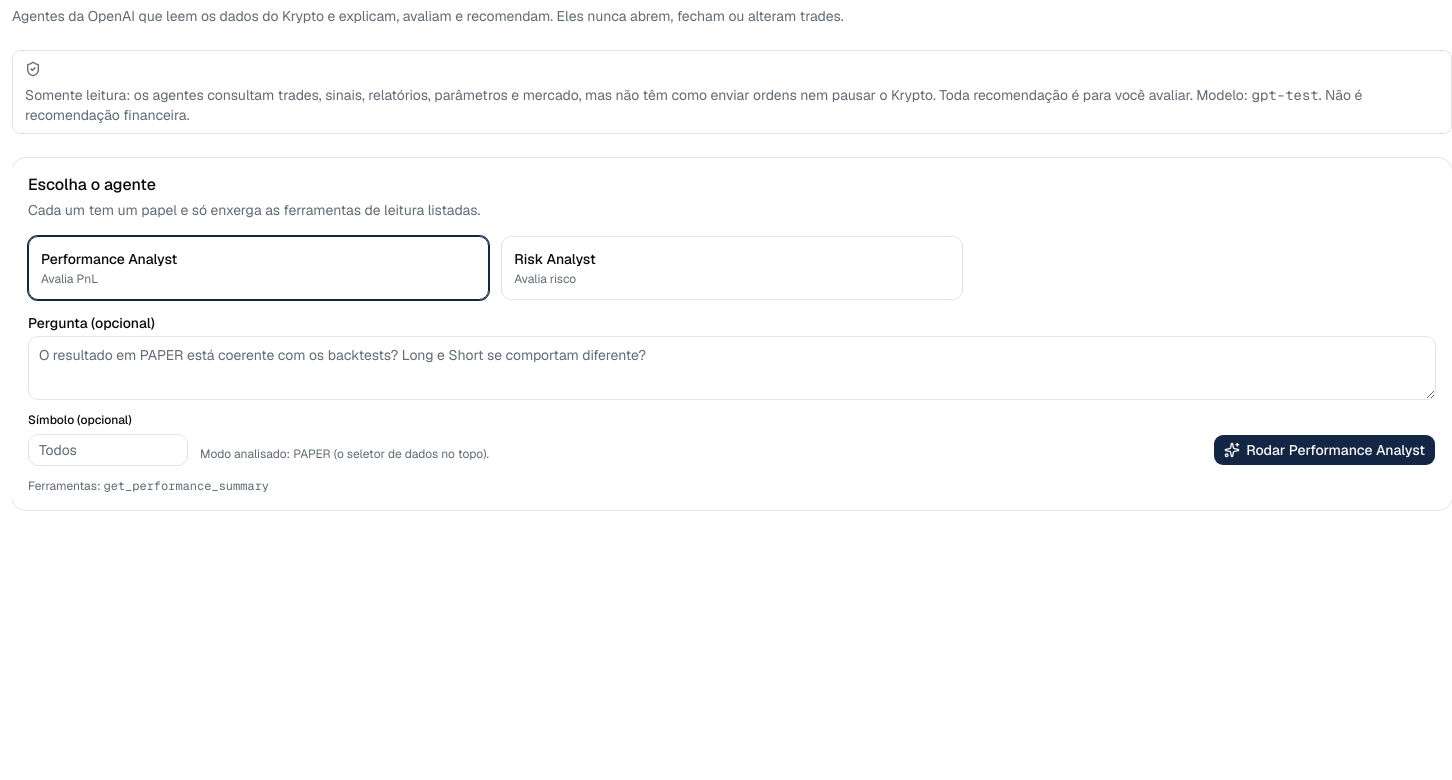
AiView › runs the selected agent with the question and data mode, then shows the advisory answer
Click the radio button labelled "Risk Analyst Avalia risco" at (555, 259), box [501,236,963,300]
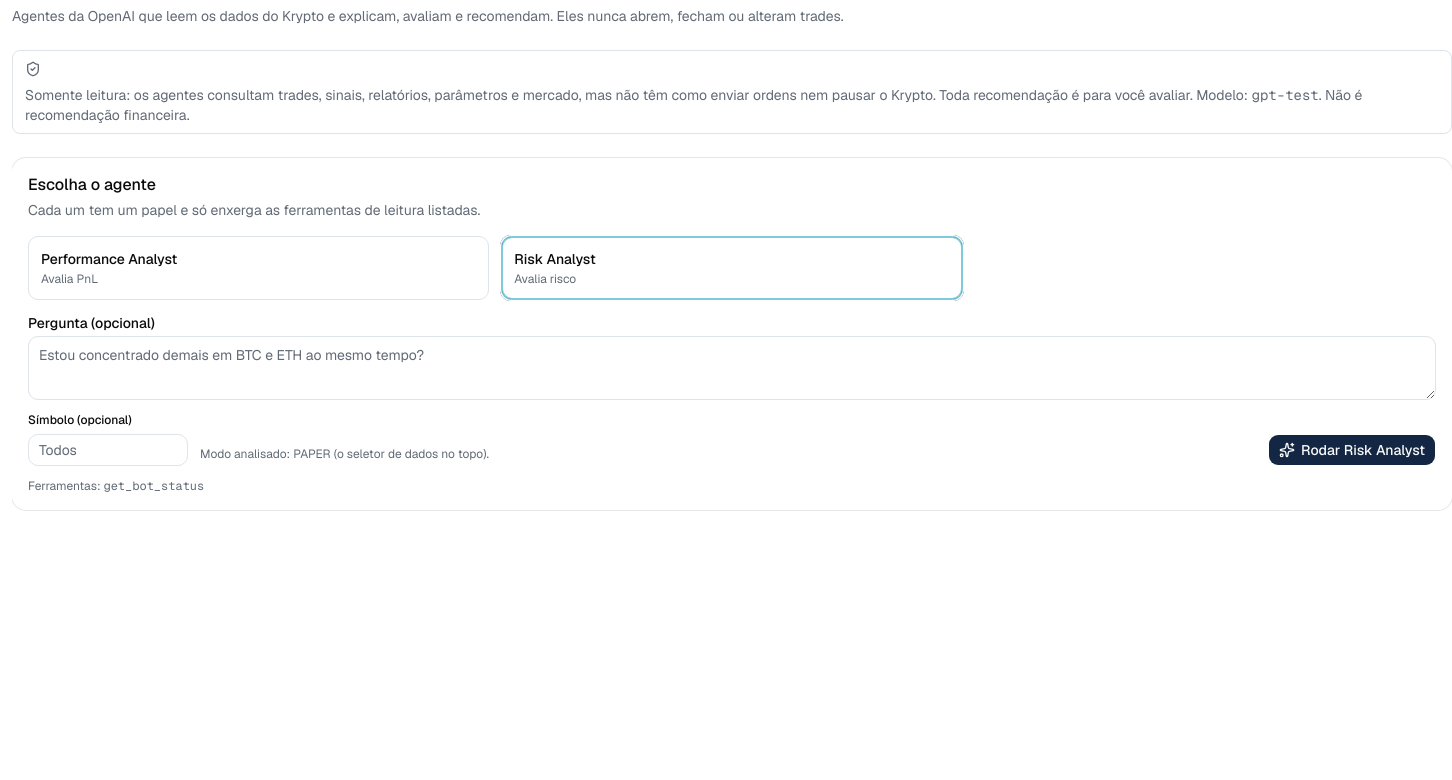
Type "Estou concentrado?" into the text box labelled "Pergunta (opcional)" at (732, 368), box [28,336,1436,400]
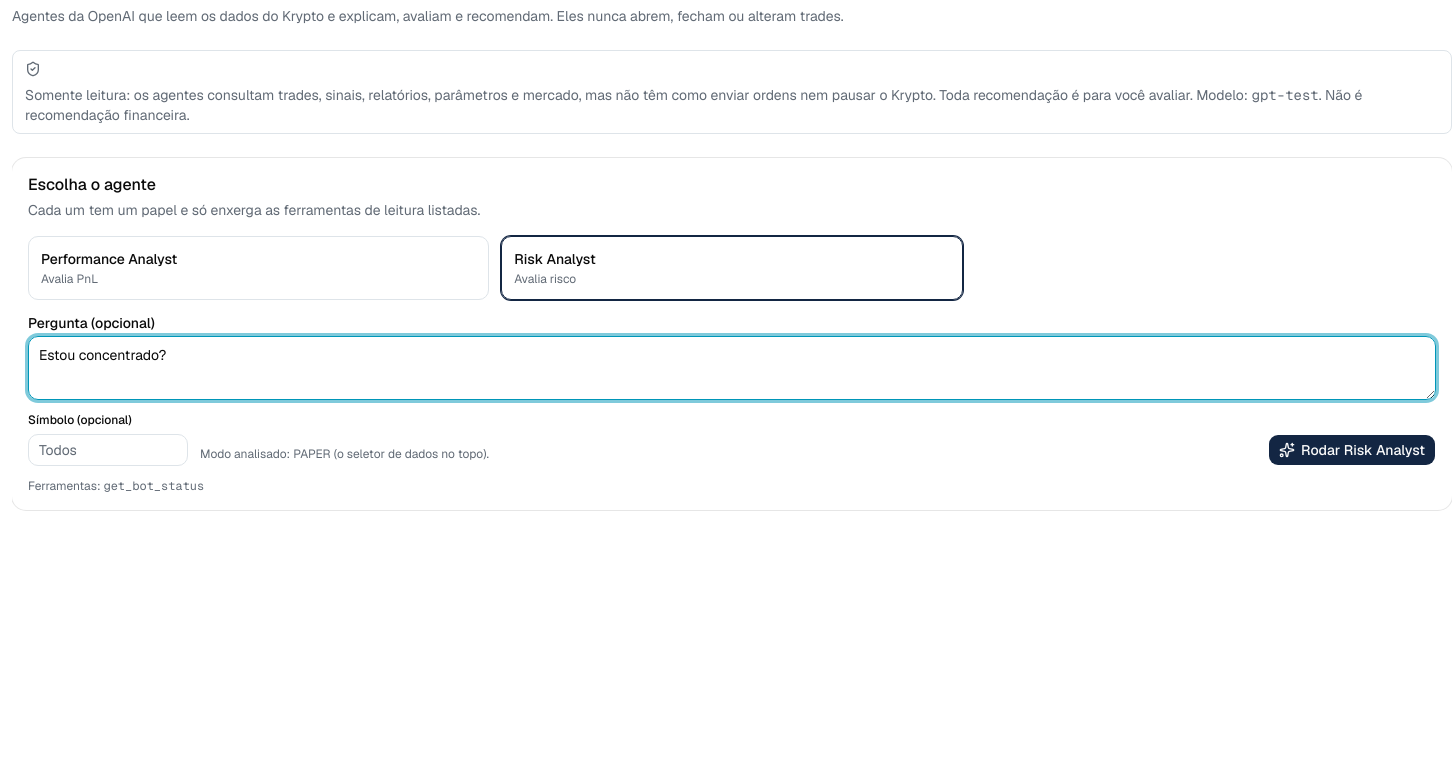
Click the button "Rodar Risk Analyst" at (1352, 450), box [1268,434,1436,466]
(page scrolled)
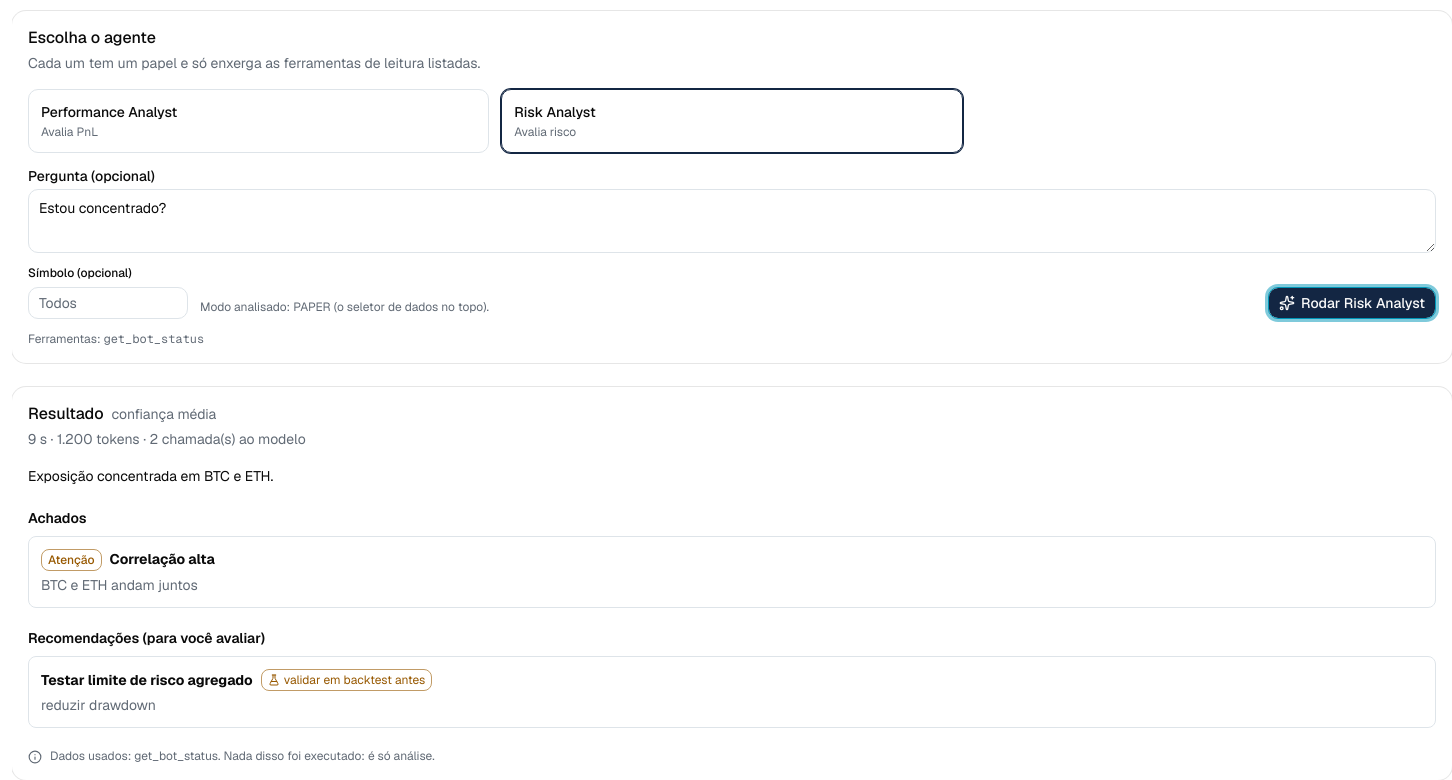
Check: the text "Exposição concentrada em BTC e ETH." is shown, box [28,467,273,485]
Check: the text "Correlação alta" is shown, box [110,550,215,568]
Check: the text "validar em backtest antes" is shown, box [261,669,432,691]
